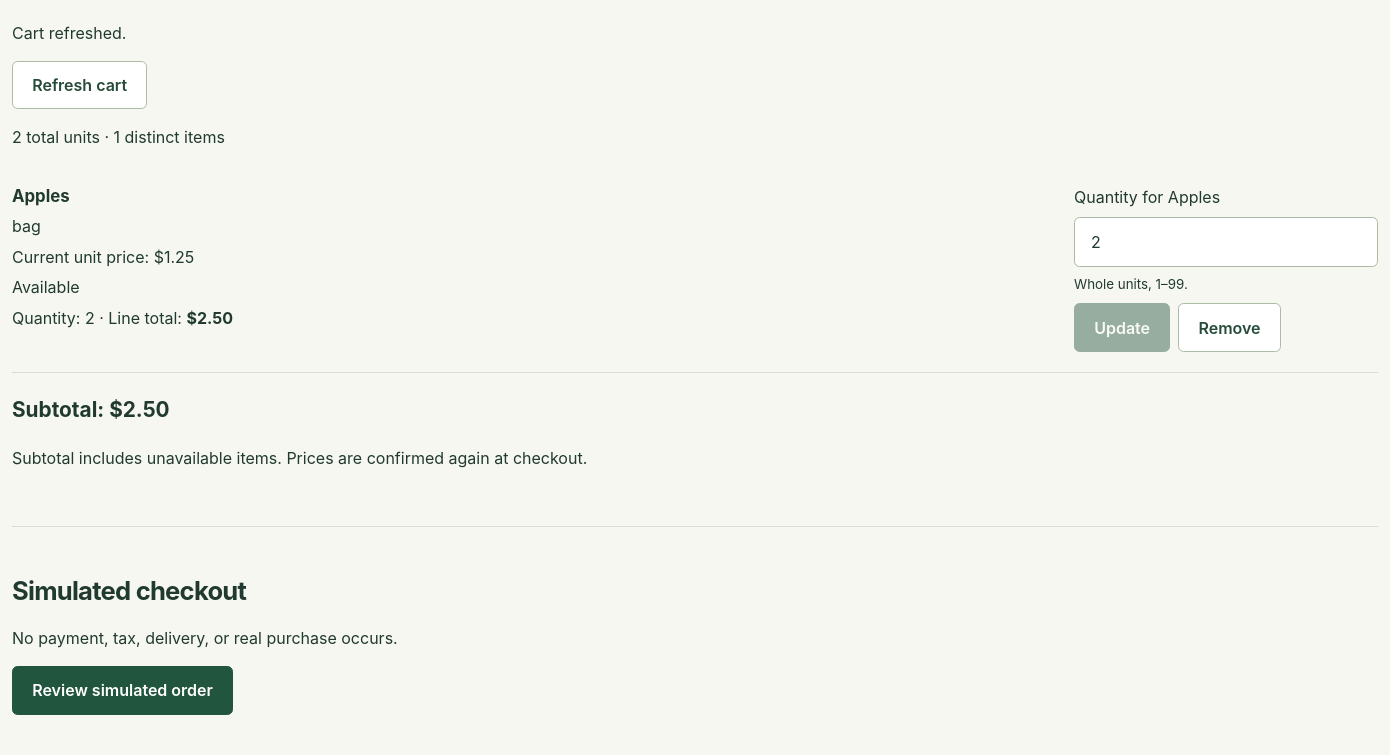
Test: simulated checkout › handles unavailable storage before sending anything
The width and height of the screenshot is (1390, 755).
(page scrolled)
Click the button "Review simulated order" at (123, 690), box [12, 666, 233, 714]
(page scrolled)
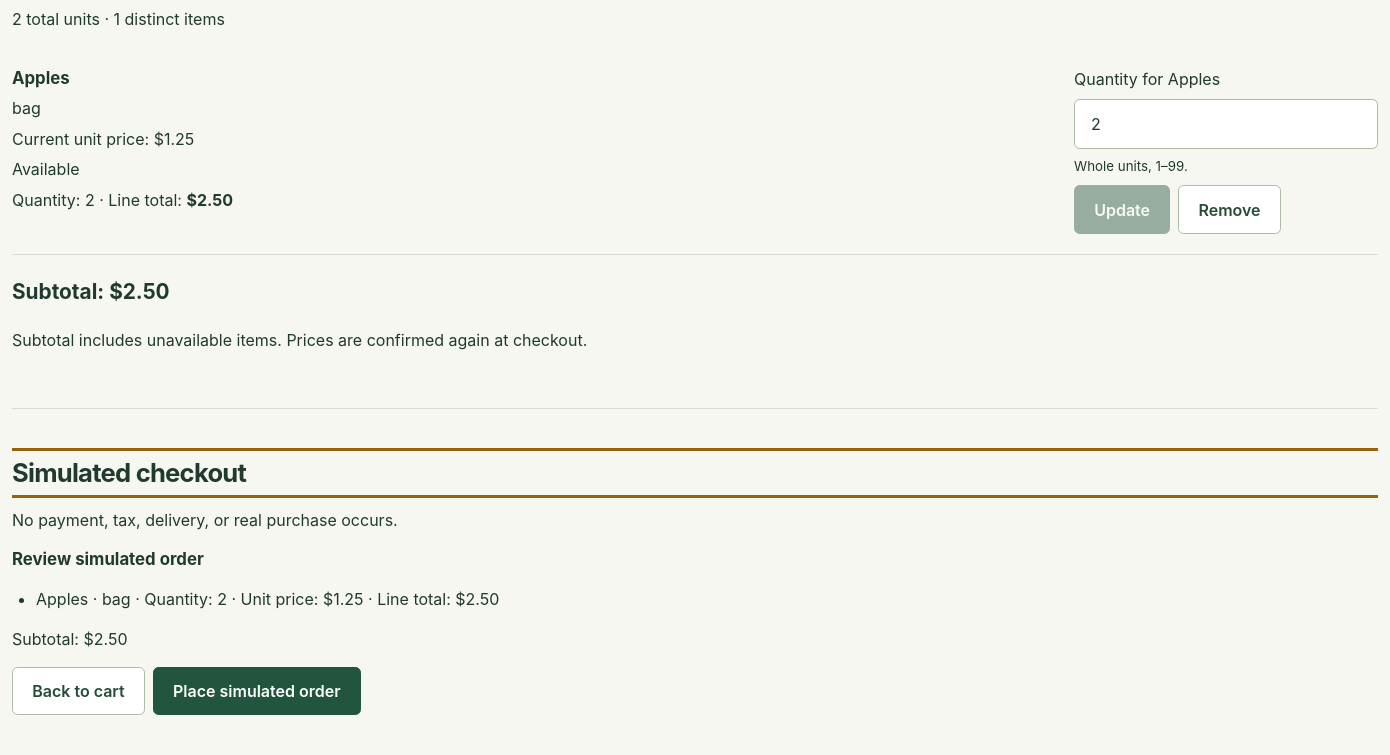
Result: the button "Place simulated order" is shown
Click the button "Place simulated order" at (257, 691), box [153, 667, 361, 715]
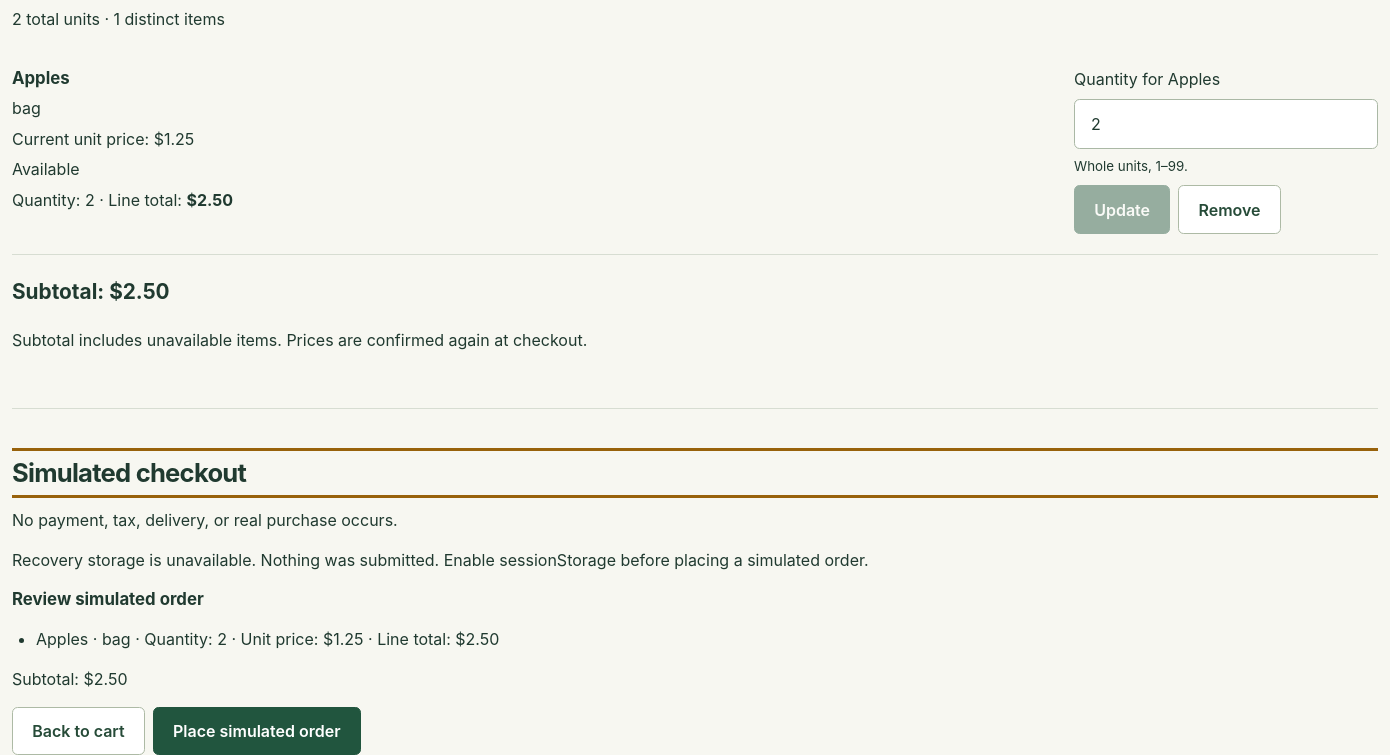
Result: the text "Nothing was submitted" is shown at [12, 550, 869, 570]
